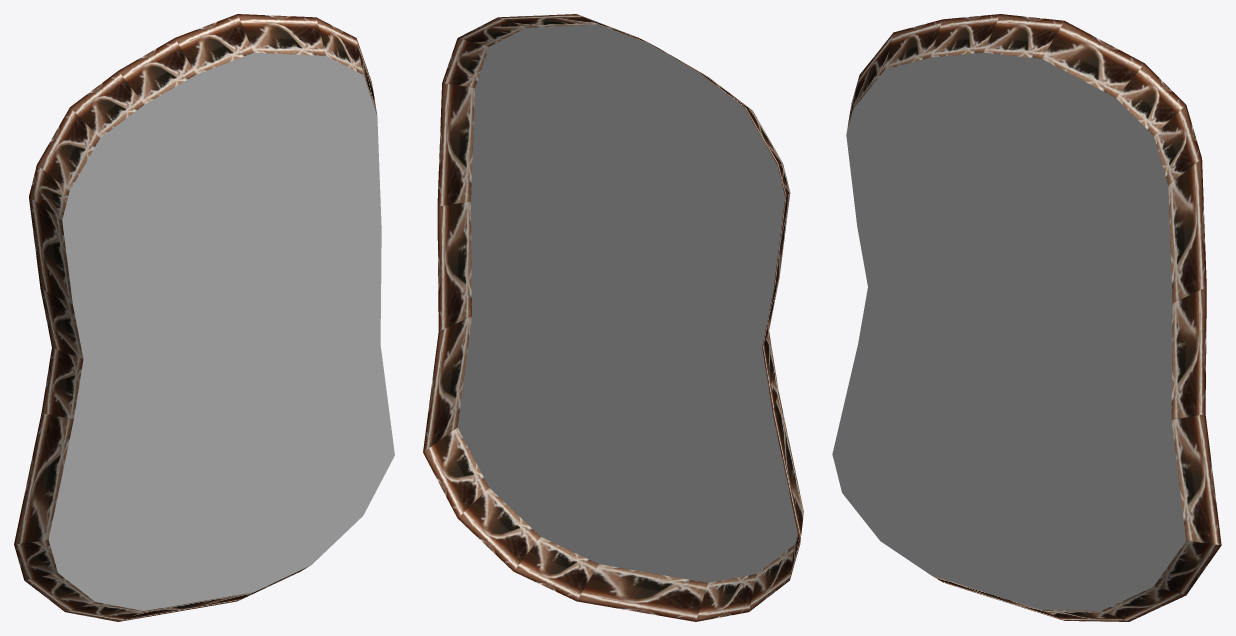
The model's file is SK_ScannerBody.fbx.
3 views of the same model, side by side, from view 1: azimuth 30°, elevation 25°; view 2: azimuth 150°, elevation 25°; view 3: azimuth 330°, elevation 25° (orthographic). The views are drawn at different scales.
Visible parts, largest first — view 1: Scanner_Body; view 2: Scanner_Body; view 3: Scanner_Body.
Part boxes in pixels (x1=…): Scanner_Body: x1=14, y1=14, x2=394, y2=621; Scanner_Body: x1=423, y1=14, x2=803, y2=621; Scanner_Body: x1=832, y1=14, x2=1221, y2=621.
Size of the model in its own units: 43.08 by 64.12 by 3.8.
